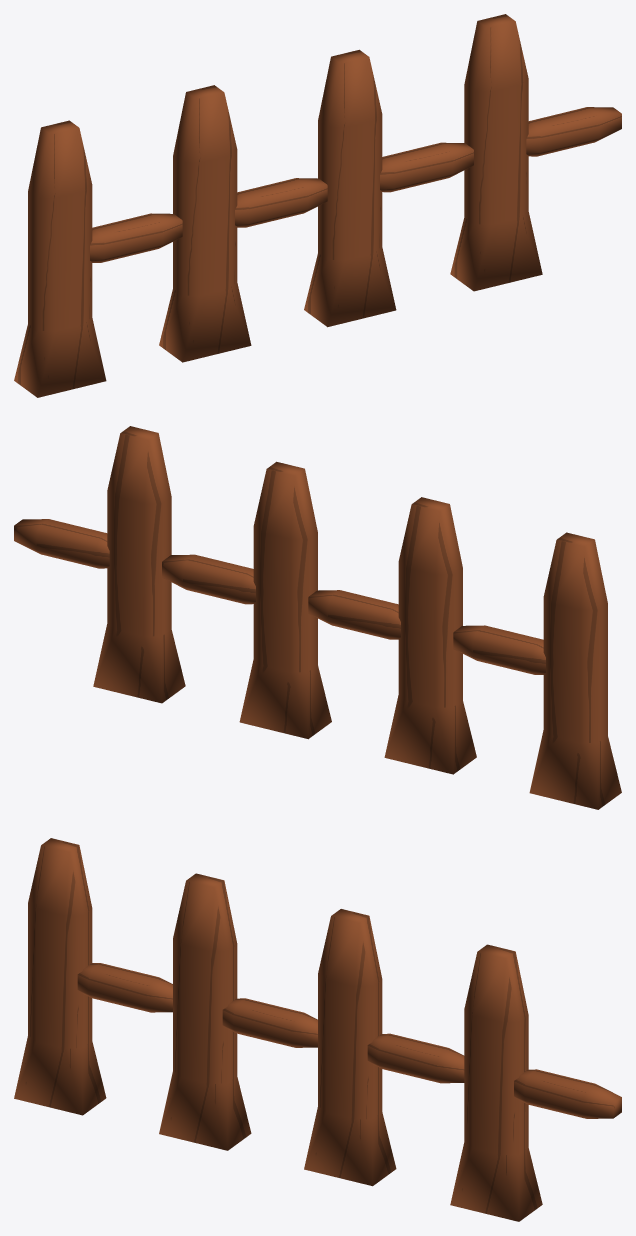
File: cercaPACKcomCONTIUAÇÂO.fbx
3 views of the same model, one above another, from view 1: azimuth 30°, elevation 25°; view 2: azimuth 150°, elevation 25°; view 3: azimuth 330°, elevation 25° (orthographic).
Visible parts, largest first — view 1: Cube.007; view 2: Cube.007; view 3: Cube.007.
Part boxes in pixels (left/top/right/bottom): Cube.007: left=14, top=14, right=621, bottom=397; Cube.007: left=14, top=426, right=621, bottom=809; Cube.007: left=14, top=838, right=621, bottom=1221.
Size of the model in its own units: 489 by 200 by 33.79.
